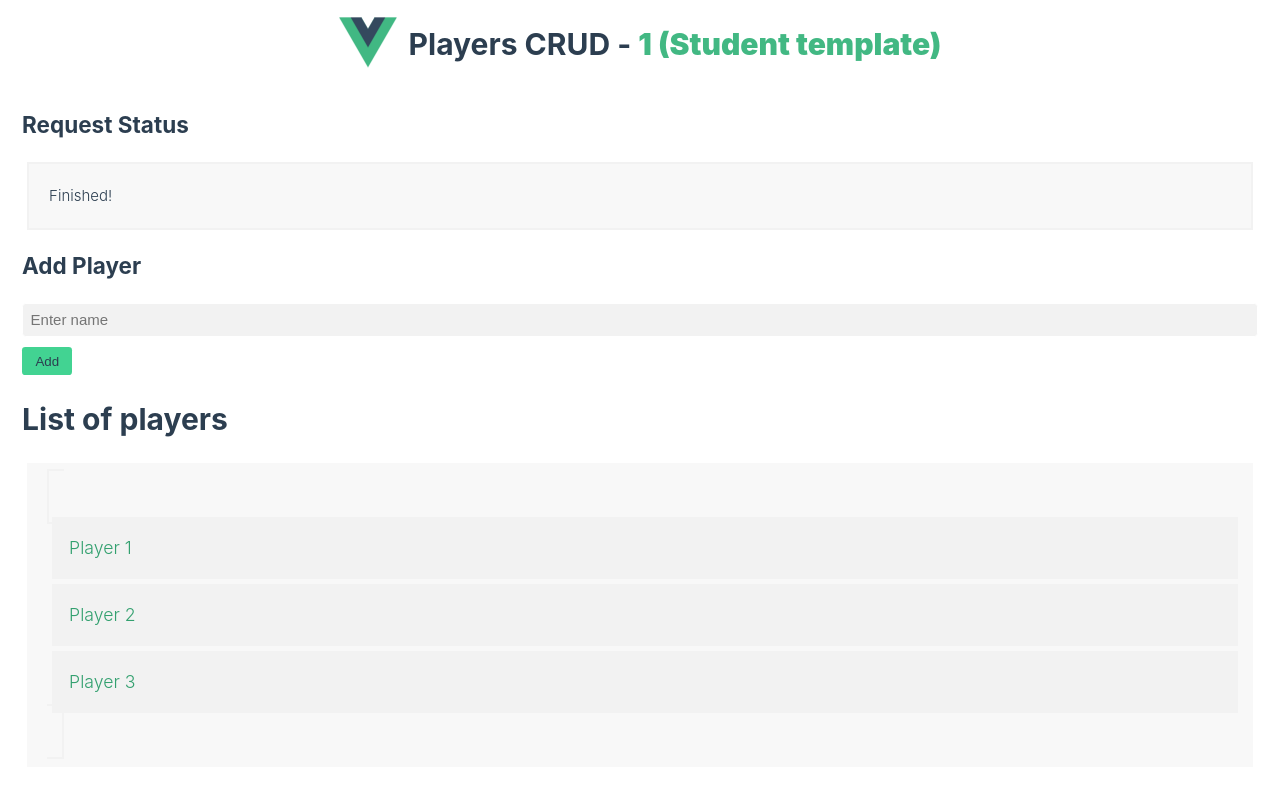
Scenario: Requests: DELETE › should successfully complete deleting a player
This screenshot has width=1280, height=793.
Click the link "Player 2" at x=102, y=614, box [52,584,1238,646]
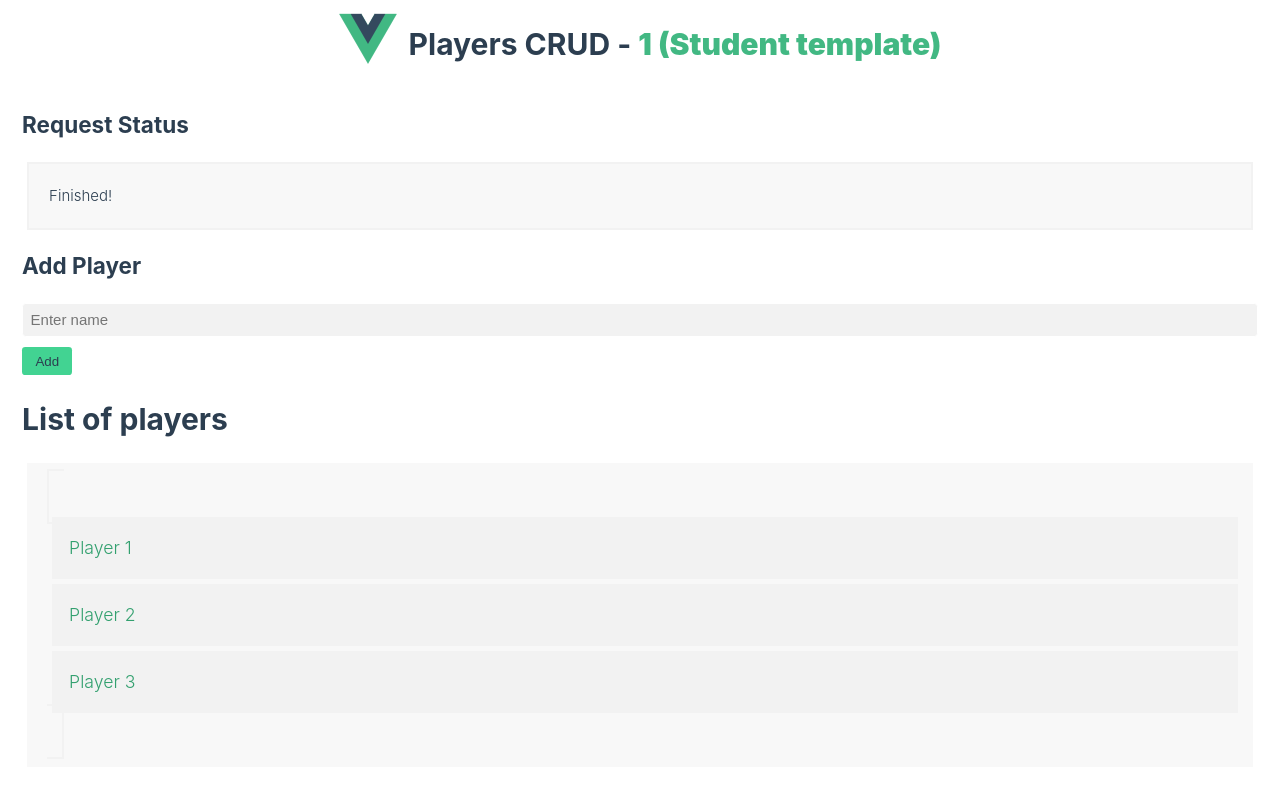
Expected: the text "Finished!" is shown, [27,162,1253,230]
Scroll
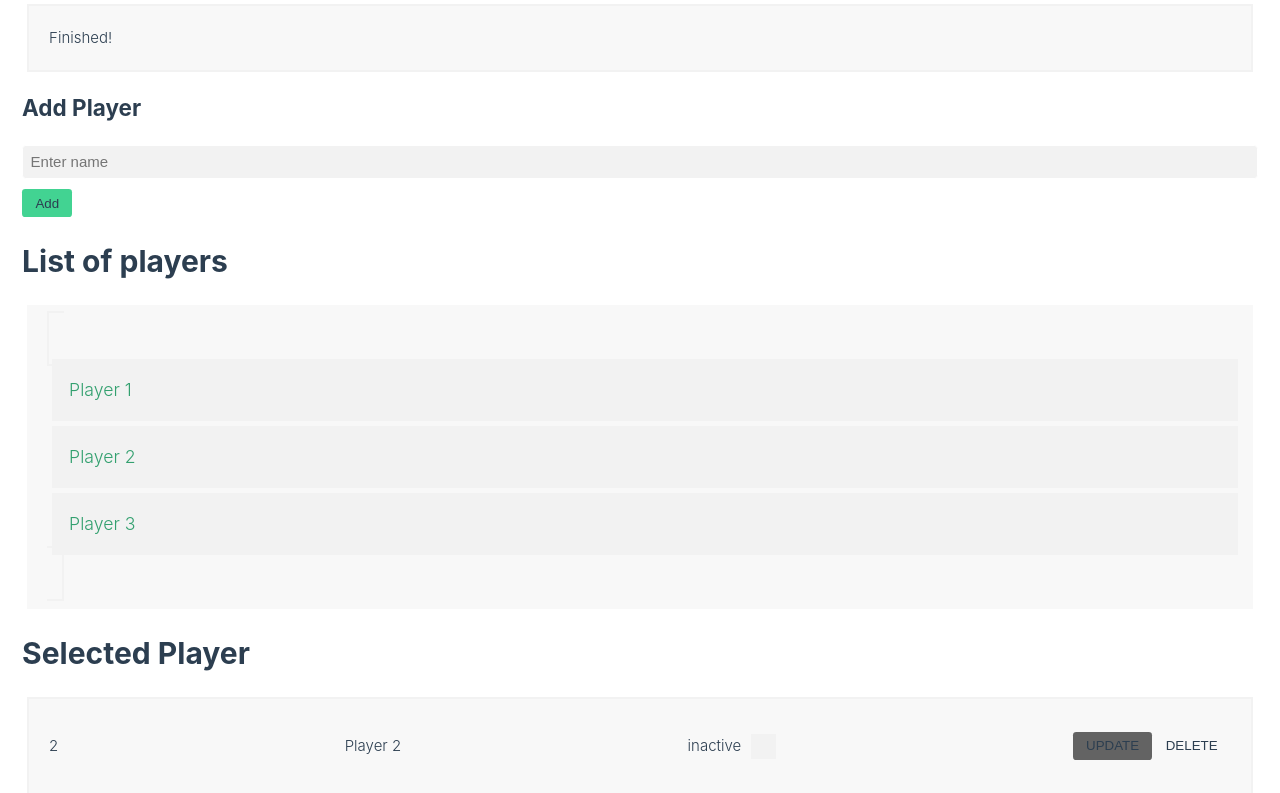
Click the button "DELETE" at x=1192, y=746, box [1152,732,1231,760]
(page scrolled)
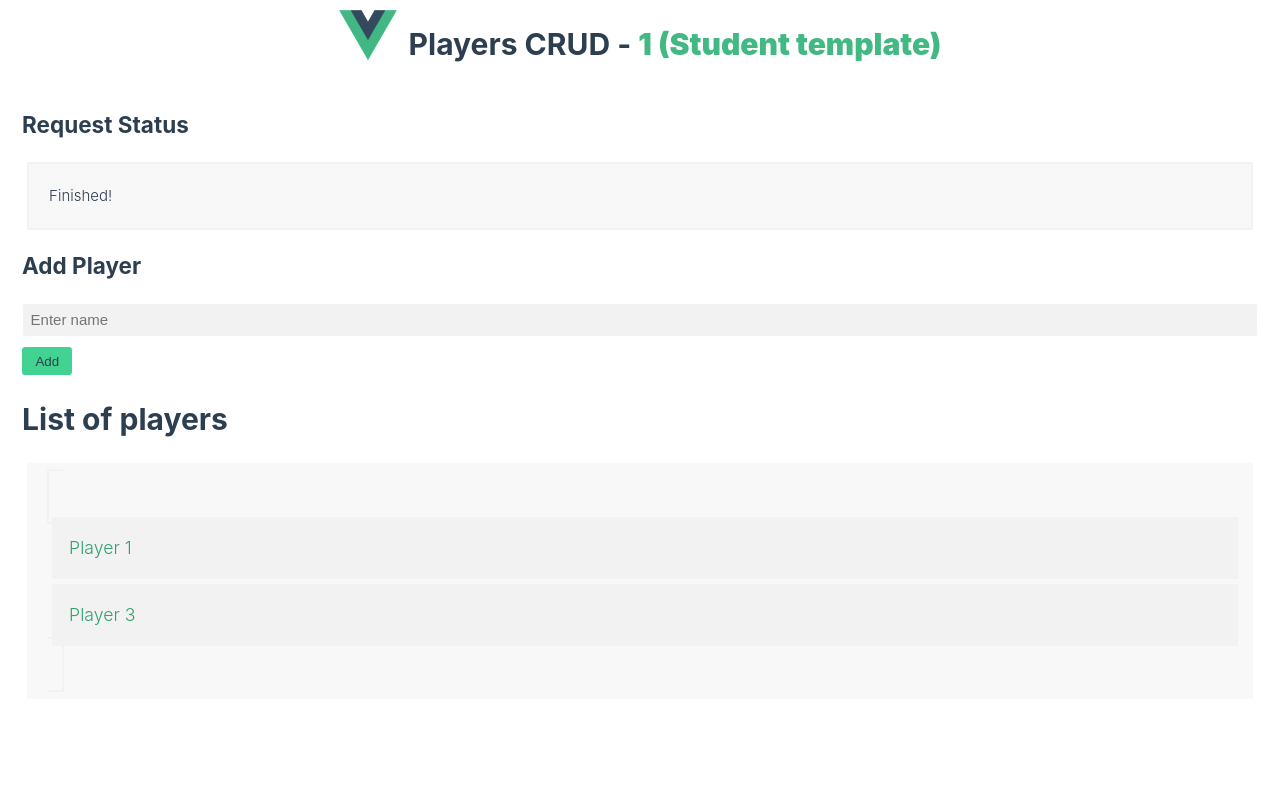
Expected: the text "Finished" is shown, [27,162,1253,230]
Expected: the link "Player 2" no longer shows "Player 2"
